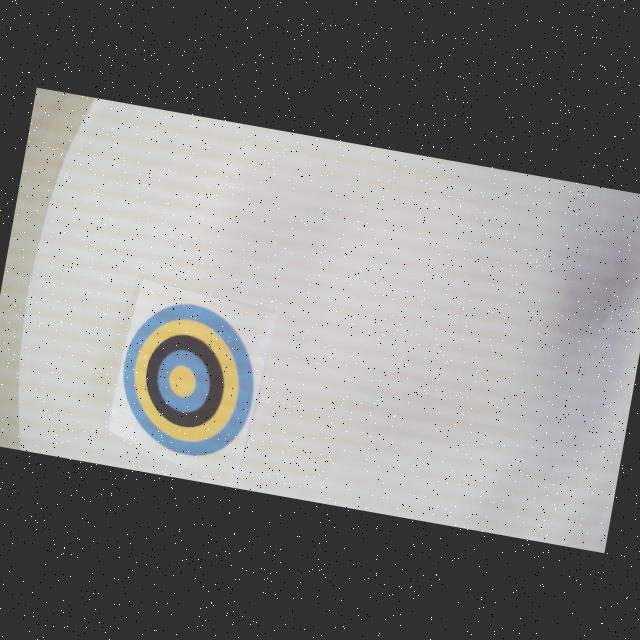COGNITIVE: (109, 292, 268, 466)
